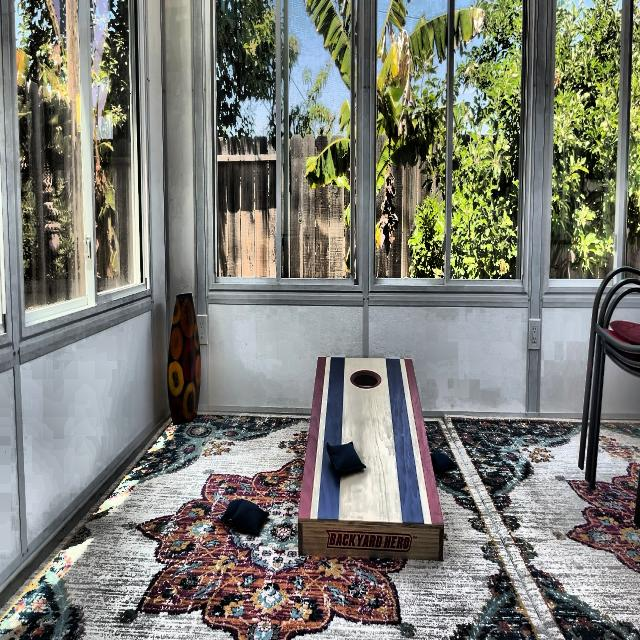blue-bean-bag: (229, 498, 270, 535), (326, 441, 366, 474), (430, 450, 456, 474), (221, 499, 241, 520)
board: (310, 358, 422, 518)
hole: (351, 370, 382, 390)
